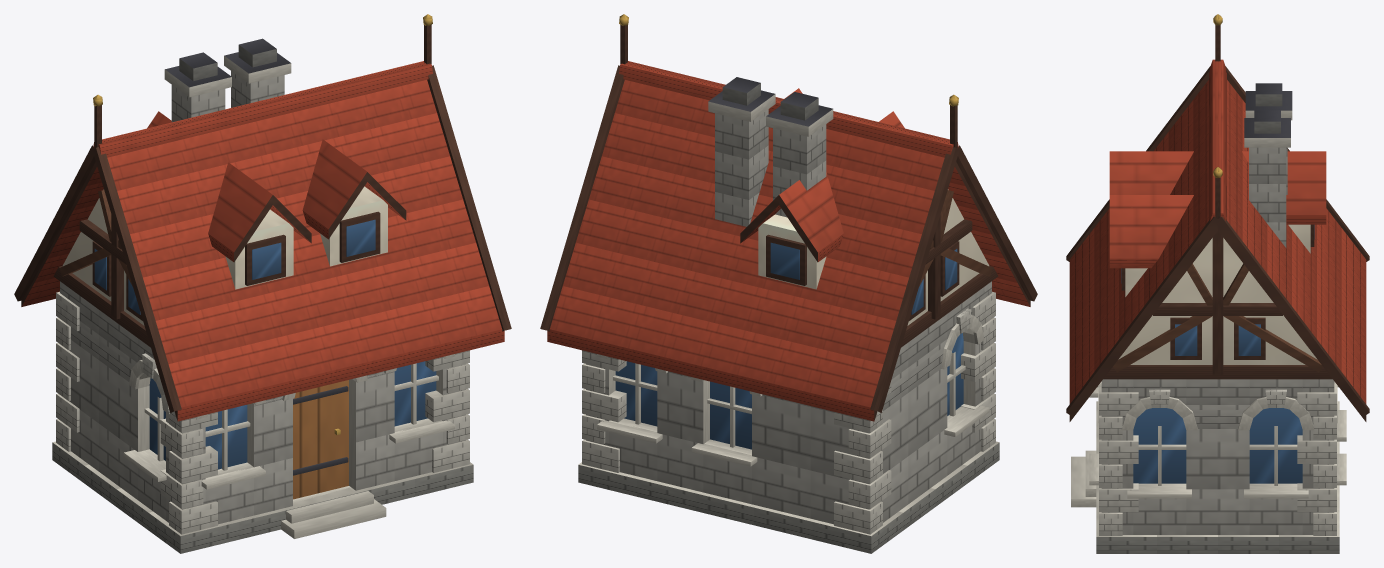
The model's file is res_cottage_02.glb.
3 renders of one model, left to right at view 1: azimuth 30°, elevation 25°; view 2: azimuth 150°, elevation 25°; view 3: azimuth 270°, elevation 25°, orthographic. The views are drawn at different scales.
Visible parts, largest first — view 1: res_cottage_02; view 2: res_cottage_02; view 3: res_cottage_02.
Boxes of the visible parts, box(x1,y1,x2,y2) form: res_cottage_02: box(14, 14, 511, 553); res_cottage_02: box(540, 14, 1037, 553); res_cottage_02: box(1066, 14, 1369, 553).
Size of the model in its own units: 6.99 by 8.22 by 5.72.
1 material, 1 textured.
